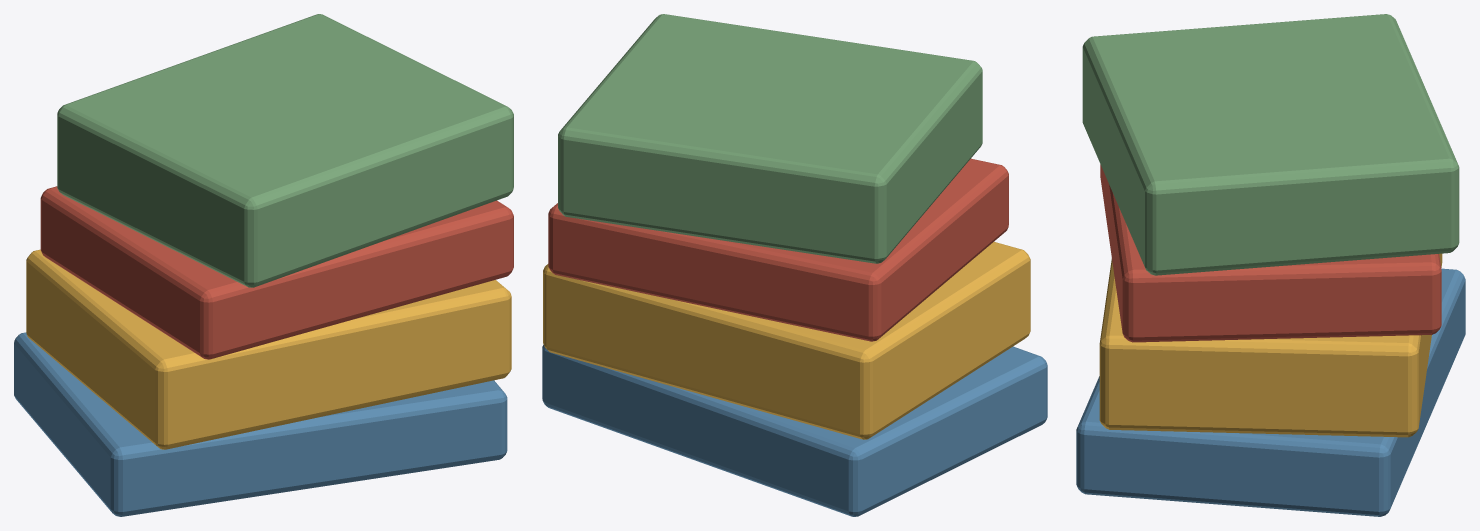
Rendered from books_stack.glb.
3 views of the same model, side by side, from view 1: azimuth 30°, elevation 25°; view 2: azimuth 150°, elevation 25°; view 3: azimuth 270°, elevation 25° (orthographic). The views are drawn at different scales.
Visible parts, largest first — view 1: book.003, book.001, book, book.002; view 2: book.003, book.001, book, book.002; view 3: book.003, book.001, book, book.002.
Part boxes in pixels (box(x1,y1,x2,y2)): book.003: box(57, 14, 513, 287); book.001: box(26, 249, 511, 449); book: box(14, 332, 507, 516); book.002: box(40, 186, 513, 359); book.003: box(558, 14, 982, 263); book.001: box(543, 242, 1030, 439); book: box(542, 345, 1047, 516); book.002: box(548, 158, 1008, 341); book.003: box(1082, 14, 1459, 275); book.001: box(1099, 253, 1442, 437); book: box(1076, 268, 1465, 516); book.002: box(1100, 164, 1441, 342).
Bounding box in the file's own units: 0.2433 × 0.184 × 0.195.
